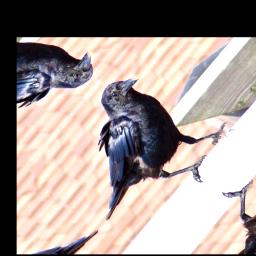Crow: (29, 67, 246, 244)
